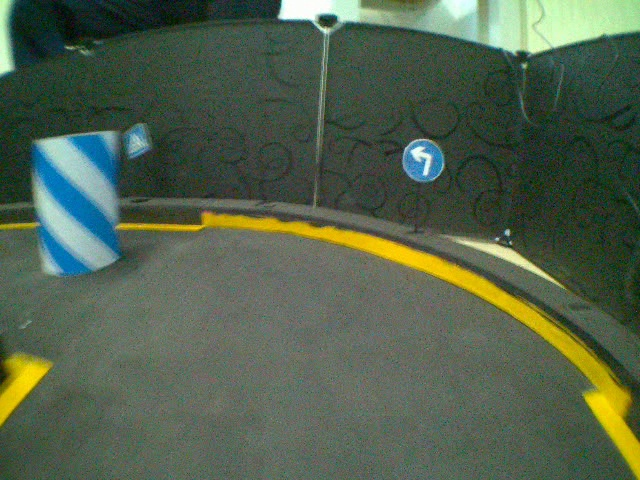bucket: (31, 127, 123, 278)
